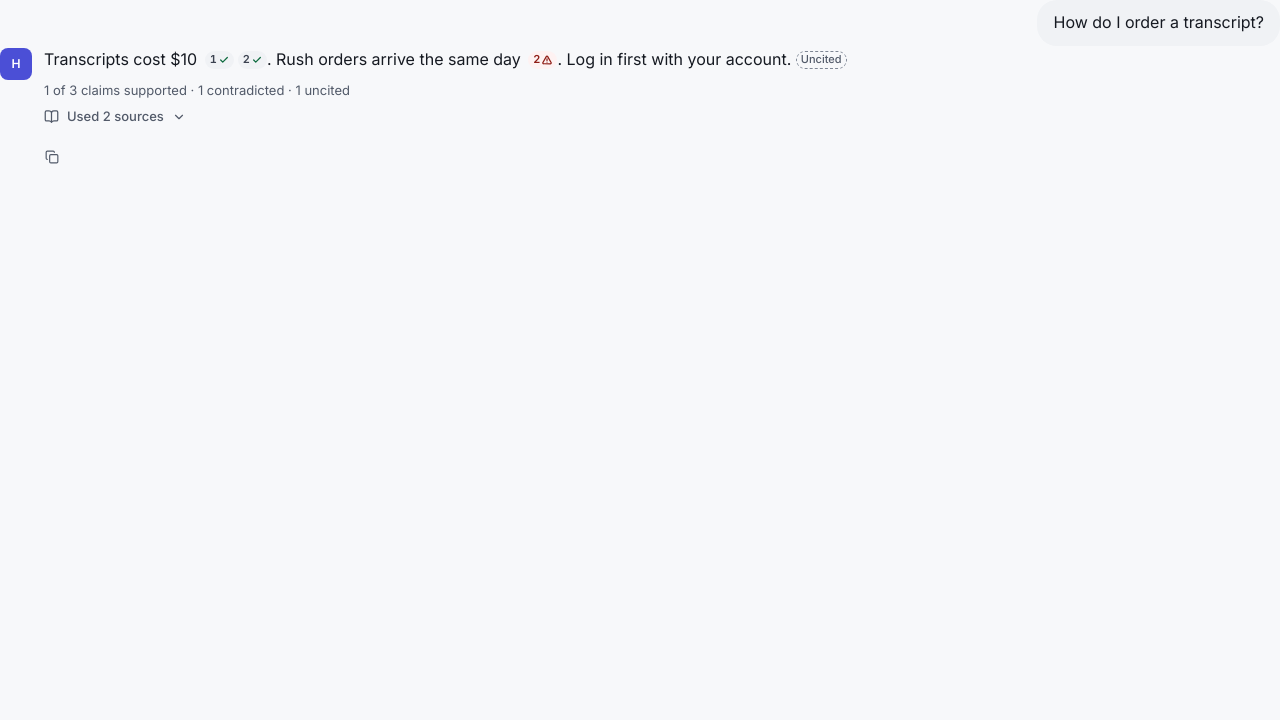
the sources under an answer › start collapsed; a chip's card leads to its source and focuses it
Step 1. Click the button named "Source 1: Page 1" → [219, 60], box [202,48,237,72]
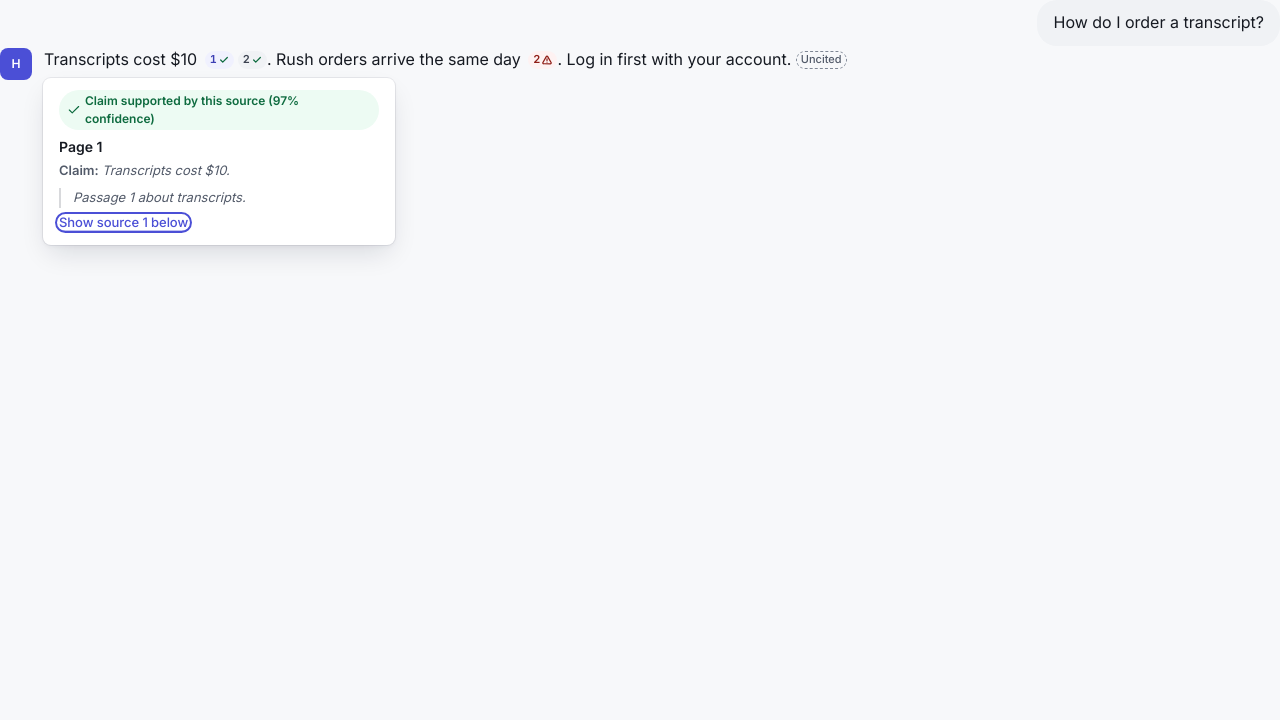
Step 2. Click the button "Show source 1 below" → [124, 222], box [59,216,188,229]
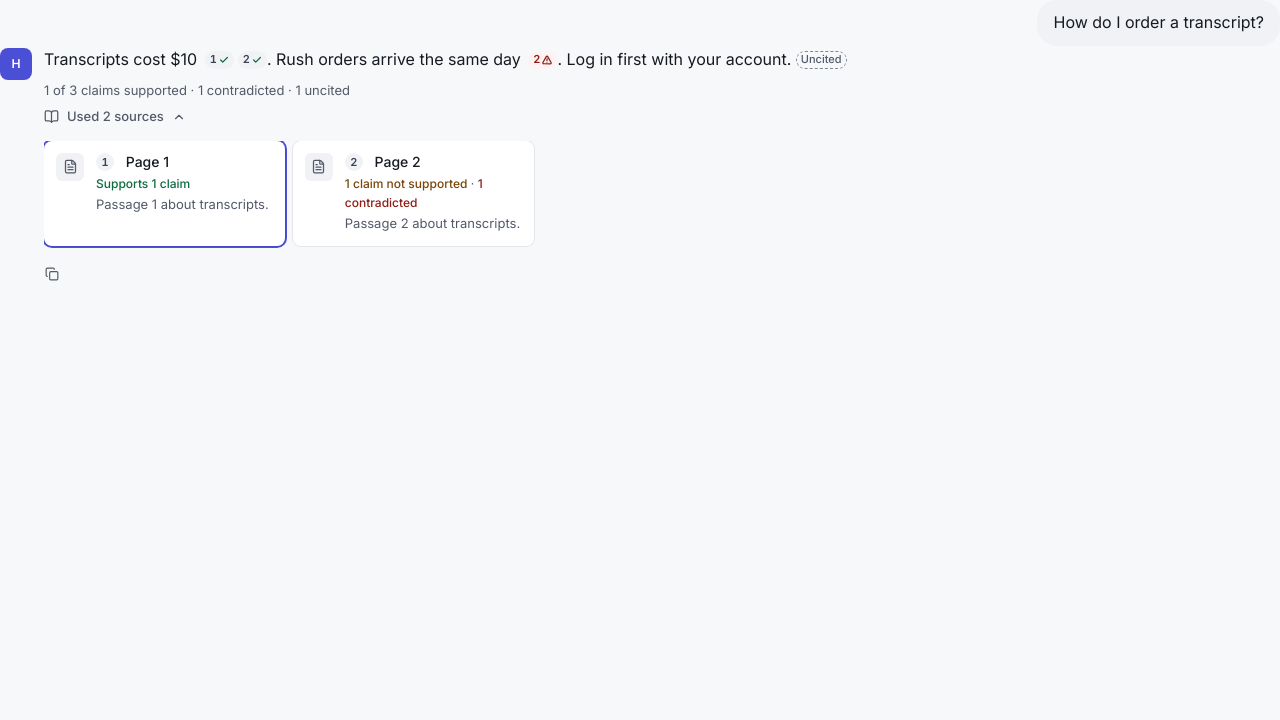
Expected: the button "Used 2 sources" is expanded, [36,101,194,133]
Expected: the elements with test id "source-breakdown" read "Supports 1 claim", "1 claim not supported · 1 contradicted", in this order, [96,176,190,191]; [345,176,483,210]
Expected: the dialog is gone
